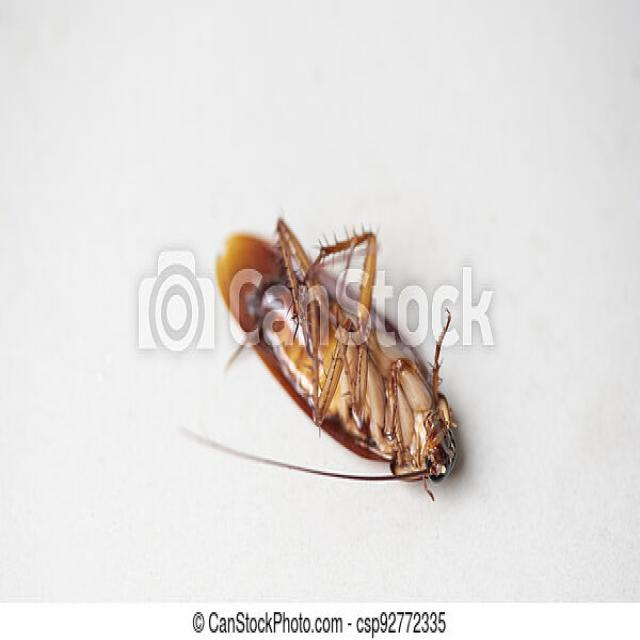Cockroach: (176, 180, 468, 512)
